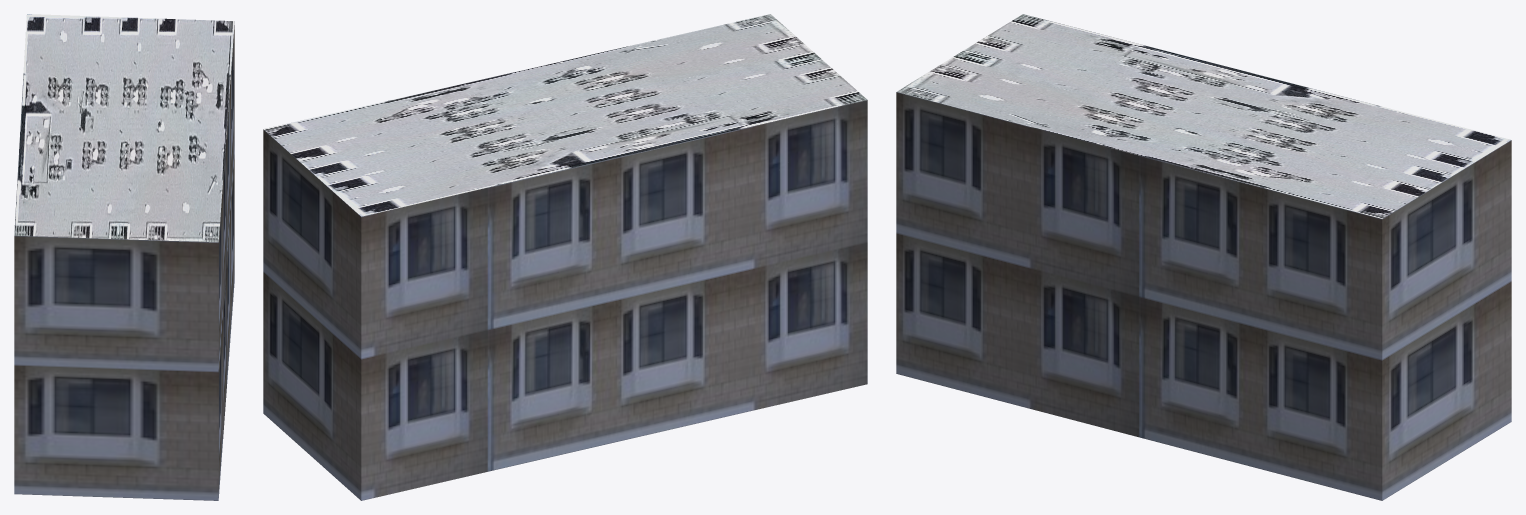
Rendered from ResTex__2222.fbx.
The picture shows the model from 3 angles, left to right: view 1: azimuth 30°, elevation 25°; view 2: azimuth 150°, elevation 25°; view 3: azimuth 270°, elevation 25°; orthographic projection. The views are drawn at different scales.
Parts seen in each view (by area): view 1: CityEngineMaterial_3_m, CityEngineMaterial_2_m; view 2: CityEngineMaterial_3_m, CityEngineMaterial_2_m; view 3: CityEngineMaterial_3_m, CityEngineMaterial_2_m.
Part boxes in pixels (x1,y1,x2,y2): CityEngineMaterial_3_m: (14,25,234,500); CityEngineMaterial_2_m: (14,14,234,242); CityEngineMaterial_3_m: (263,100,867,500); CityEngineMaterial_2_m: (263,14,867,216); CityEngineMaterial_3_m: (896,92,1511,500); CityEngineMaterial_2_m: (897,14,1510,218).
Bounding box in the file's own units: 9.36 × 6 × 11.87.
Materials: 2 (2 with a texture image).
